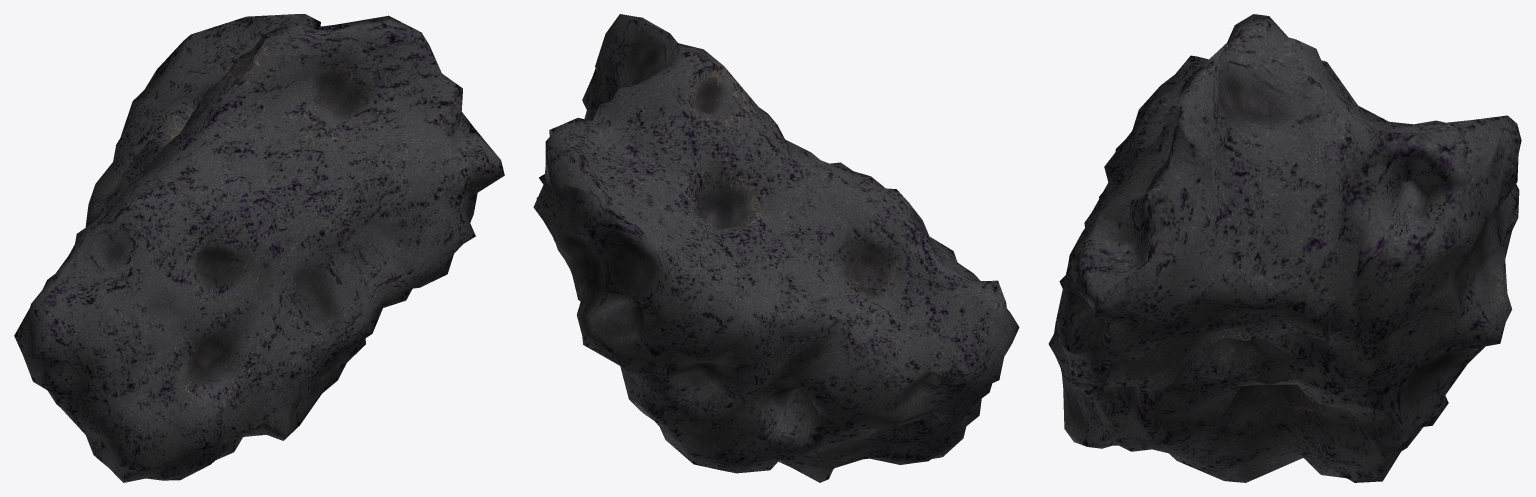
The model's file is giant_asteroid_with_purple_accents (1).glb.
3 renders of one model, left to right at view 1: azimuth 30°, elevation 25°; view 2: azimuth 150°, elevation 25°; view 3: azimuth 270°, elevation 25°, orthographic. The views are drawn at different scales.
Visible parts, largest first — view 1: Group43048; view 2: Group43048; view 3: Group43048.
Boxes of the visible parts, left/top/right/bottom form: Group43048: left=14, top=14, right=504, bottom=482; Group43048: left=533, top=14, right=1019, bottom=482; Group43048: left=1048, top=14, right=1521, bottom=482.
Size of the model in its own units: 26.01 by 22.65 by 17.8.
1 material, 1 textured.
